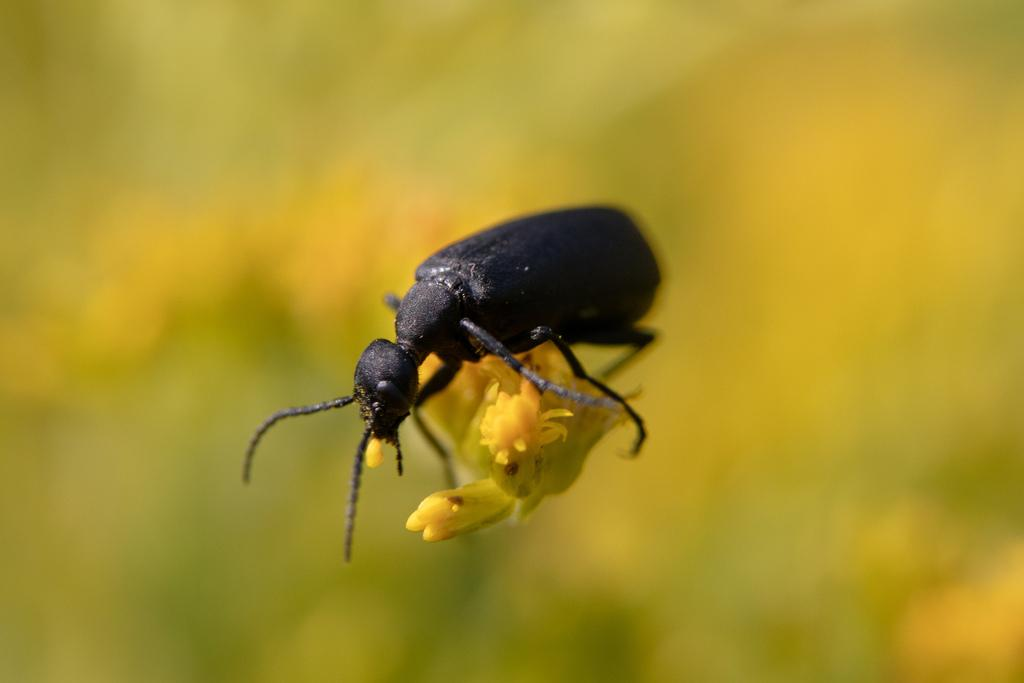blister_beetle: (208, 118, 701, 603)
